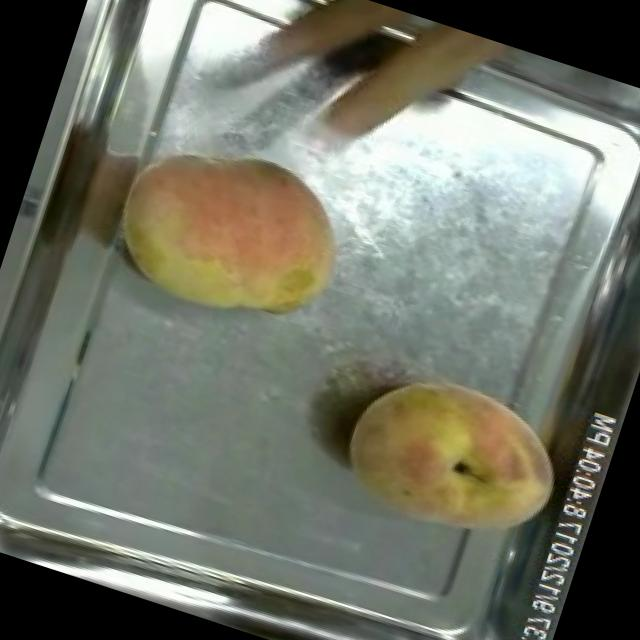Fruit: (95, 111, 377, 356), (322, 345, 586, 569)
